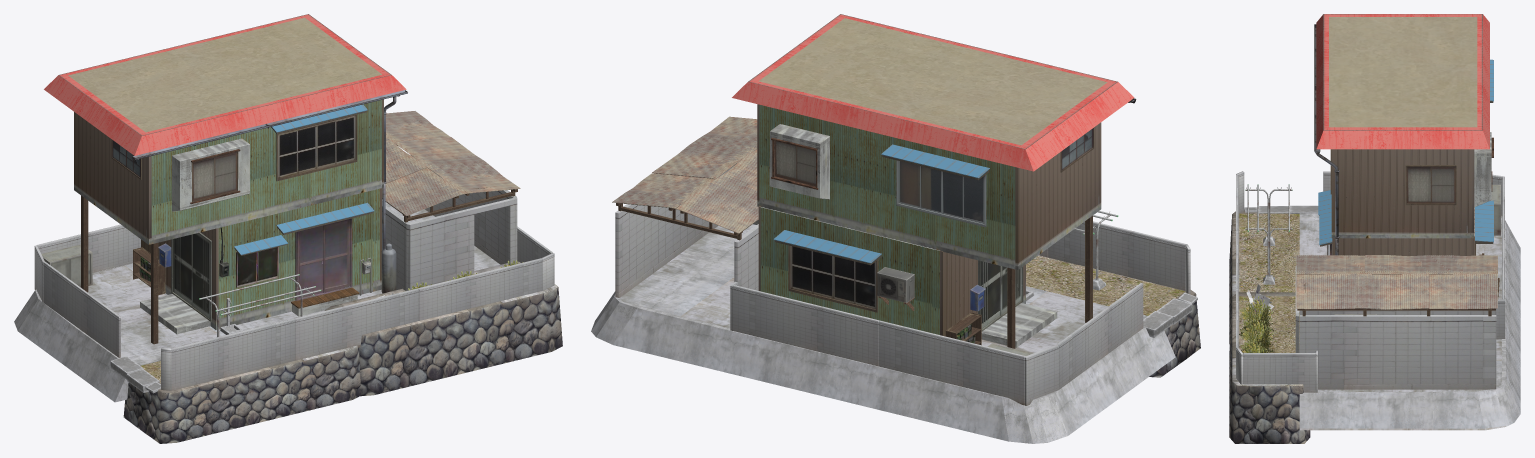
The model's file is houseset11.fbx.
The picture shows the model from 3 angles, left to right: view 1: azimuth 30°, elevation 25°; view 2: azimuth 150°, elevation 25°; view 3: azimuth 270°, elevation 25°; orthographic projection. The views are drawn at different scales.
Parts seen in each view (by area): view 1: houseset11; view 2: houseset11; view 3: houseset11.
Part boxes in pixels (x1,y1,x2,y2): houseset11: (14,14,562,443); houseset11: (591,14,1200,443); houseset11: (1229,14,1520,443).
Size of the model in its own units: 1191 by 739 by 715.
Materials: 18 (18 with a texture image).
